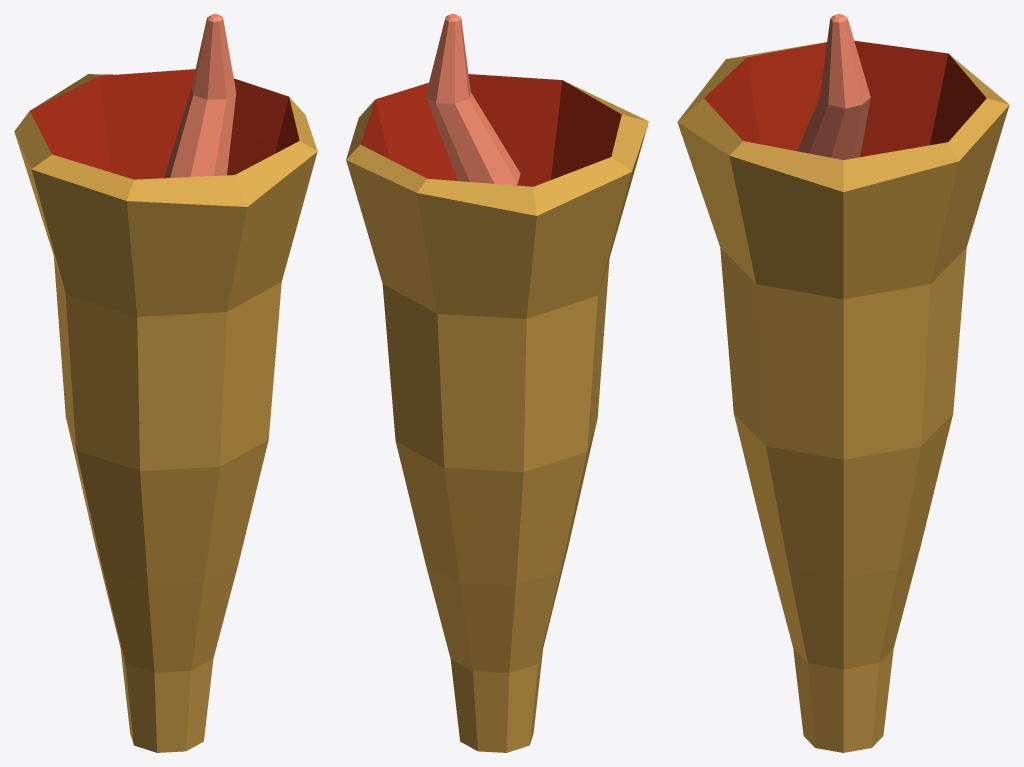
The model's file is Titanwurz_1.fbx.
The picture shows the model from 3 angles, left to right: view 1: azimuth 30°, elevation 25°; view 2: azimuth 150°, elevation 25°; view 3: azimuth 270°, elevation 25°; orthographic projection. The views are drawn at different scales.
Visible parts, largest first — view 1: Titanwurz_3; view 2: Titanwurz_3; view 3: Titanwurz_3.
Boxes of the visible parts, <box> form: Titanwurz_3: <box>14,14,317,752</box>; Titanwurz_3: <box>346,14,648,752</box>; Titanwurz_3: <box>677,14,1009,752</box>.
Size of the model in its own units: 26.51 by 65.76 by 26.64.
